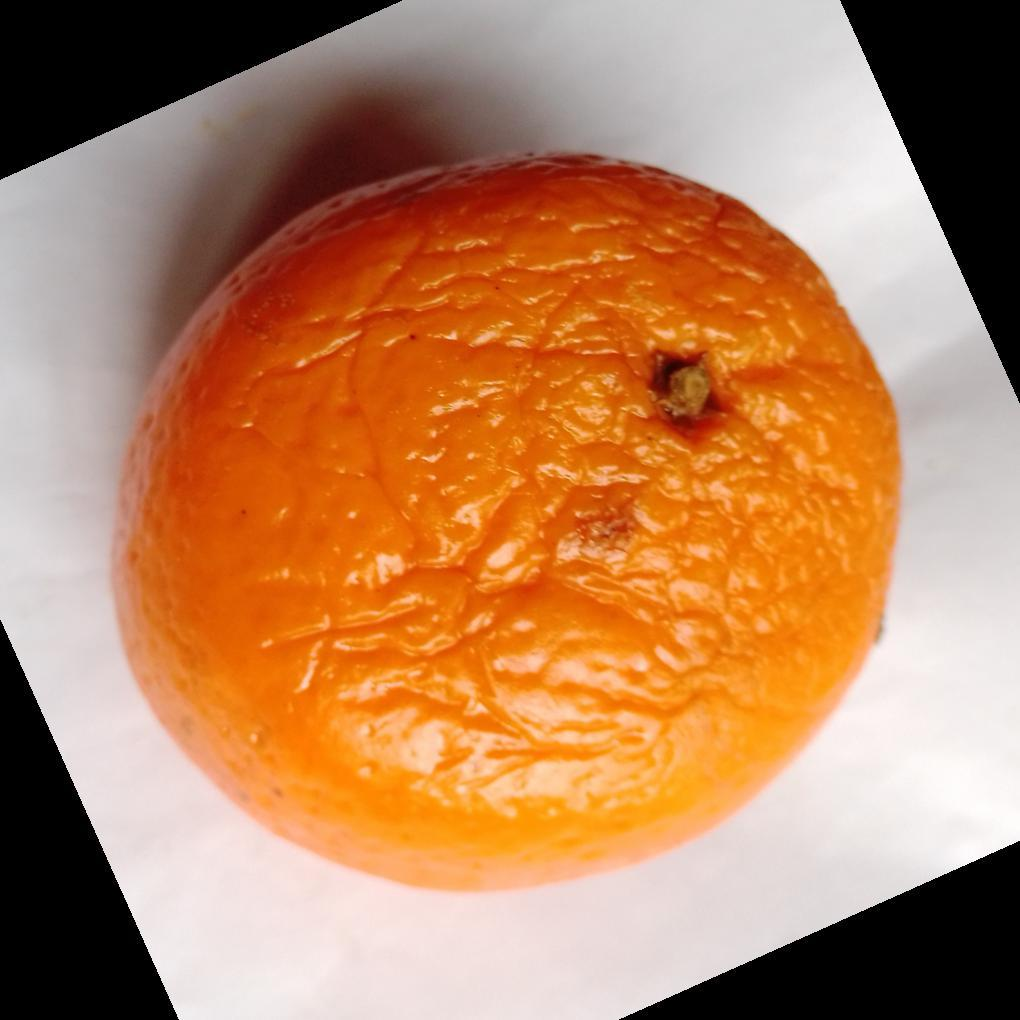FreshOrange: (106, 154, 904, 898)
